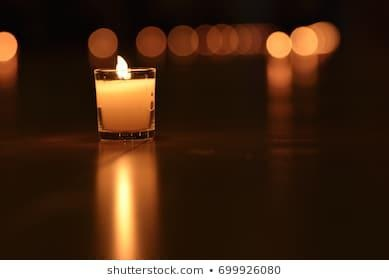fire: (111, 157, 135, 257), (113, 52, 130, 78)
